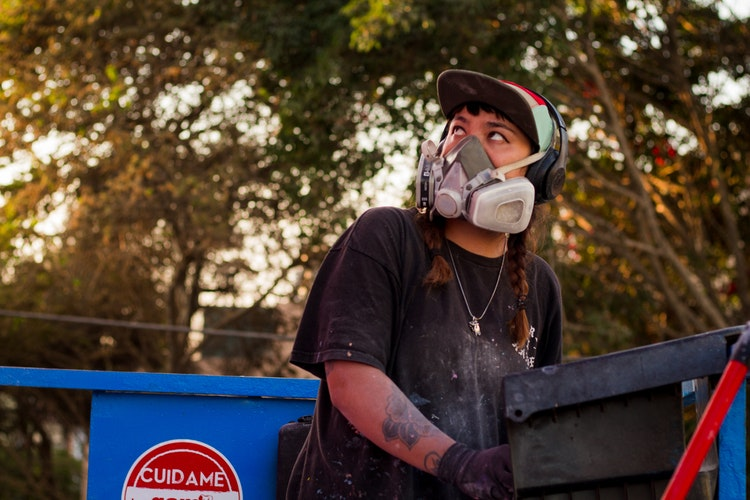helmet: (431, 60, 581, 179)
